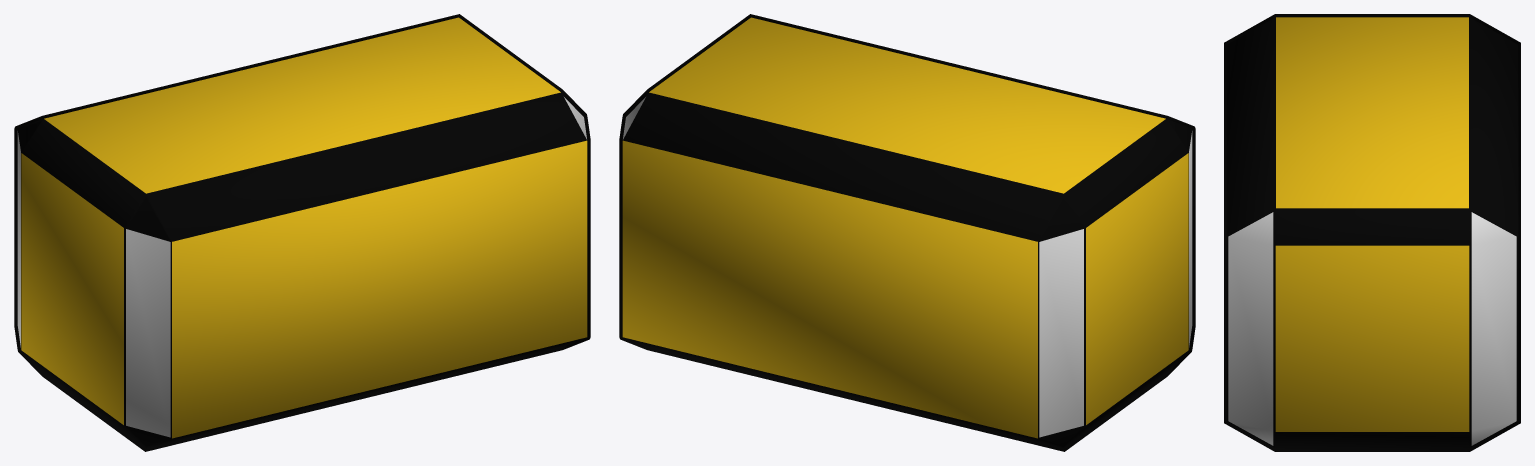
File: Single Cargo.fbx
3 views of the same model, side by side, from view 1: azimuth 30°, elevation 25°; view 2: azimuth 150°, elevation 25°; view 3: azimuth 270°, elevation 25° (orthographic). The views are drawn at different scales.
Visible parts, largest first — view 1: Single Cargo.003; view 2: Single Cargo.003; view 3: Single Cargo.003.
Part boxes in pixels (left/top/right/bottom): Single Cargo.003: left=14, top=14, right=590, bottom=451; Single Cargo.003: left=619, top=14, right=1195, bottom=451; Single Cargo.003: left=1224, top=14, right=1520, bottom=451.
Size of the model in its own units: 3.03 by 1.78 by 1.62.
